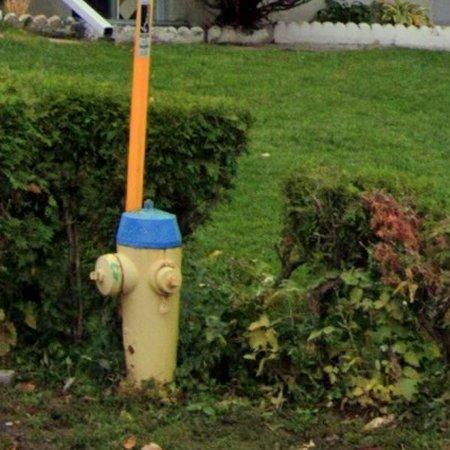a fire hydrant: (92, 201, 182, 384)
